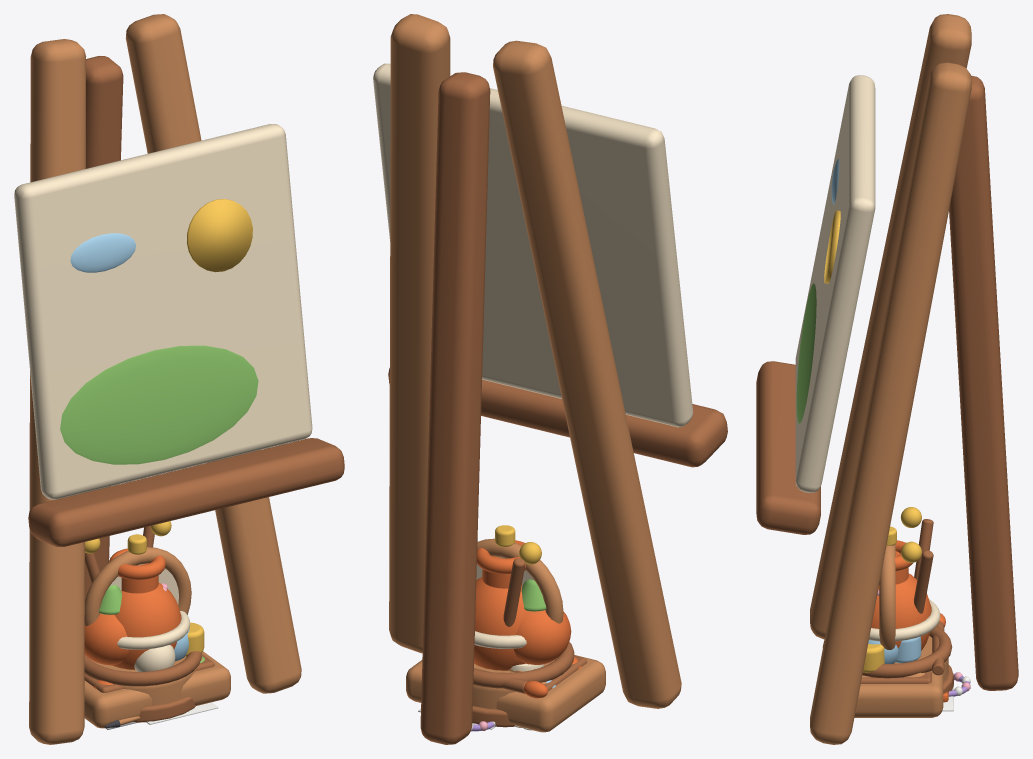
Rendered from interest_craft_v3_8_draco_webp.glb.
3 renders of one model, left to right at view 1: azimuth 30°, elevation 25°; view 2: azimuth 150°, elevation 25°; view 3: azimuth 270°, elevation 25°, orthographic. The views are drawn at different scales.
Parts seen in each view (by area): view 1: easel_canvas, easel_leg_L, easel_leg_R, easel_paint_hill, easel_ledge, easel_leg_back, easel_paint_sun, paint_box_body, pottery_vase_body, embroidery_hoop_ring, easel_paint_sky_cloud, yarn_basket_rim (+6 smaller); view 2: easel_leg_L, easel_canvas, easel_leg_back, easel_leg_R, easel_ledge, paint_box_body, pottery_vase_body, sewing_kit_cushion, embroidery_hoop_ring, yarn_basket_rim, yarn_basket_needle_a, yarn_basket_basket (+4 smaller); view 3: easel_leg_R, easel_leg_back, easel_canvas, easel_leg_L, easel_ledge, paint_box_body, easel_paint_hill, embroidery_hoop_ring, pottery_vase_body, yarn_basket_rim, pottery_vase_band, yarn_basket_needle_b (+5 smaller).
Boxes of the visible parts, box(x1,y1,x2,y2) form: easel_canvas: box(14, 124, 312, 499); easel_leg_L: box(29, 39, 86, 744); easel_leg_R: box(125, 14, 301, 693); easel_paint_hill: box(60, 345, 258, 464); easel_ledge: box(28, 438, 344, 546); easel_leg_back: box(85, 56, 123, 600); easel_paint_sun: box(187, 199, 252, 272); paint_box_body: box(84, 651, 230, 728); pottery_vase_body: box(112, 583, 181, 669); embroidery_hoop_ring: box(84, 547, 191, 625); easel_paint_sky_cloud: box(70, 233, 135, 272); yarn_basket_rim: box(84, 651, 201, 686); easel_leg_L: box(493, 40, 681, 708); easel_canvas: box(373, 63, 693, 427); easel_leg_back: box(420, 72, 490, 744); easel_leg_R: box(389, 14, 450, 653); easel_ledge: box(388, 368, 727, 467); paint_box_body: box(406, 655, 605, 732); pottery_vase_body: box(474, 577, 529, 670); sewing_kit_cushion: box(514, 610, 571, 664); embroidery_hoop_ring: box(477, 538, 563, 623); yarn_basket_rim: box(473, 642, 574, 688); yarn_basket_needle_a: box(503, 558, 525, 626); yarn_basket_basket: box(473, 658, 556, 709); easel_leg_R: box(810, 62, 971, 744); easel_leg_back: box(949, 75, 1018, 690); easel_canvas: box(795, 75, 875, 492); easel_leg_L: box(810, 14, 971, 639); easel_ledge: box(756, 361, 820, 534); paint_box_body: box(854, 673, 943, 717); easel_paint_hill: box(796, 283, 816, 423); embroidery_hoop_ring: box(879, 544, 895, 649); pottery_vase_body: box(871, 573, 931, 650); yarn_basket_rim: box(822, 626, 952, 678); pottery_vase_band: box(869, 599, 940, 641); yarn_basket_needle_b: box(914, 550, 933, 613).
Bounding box in the file's own units: 0.64 × 1.34 × 0.4934.
